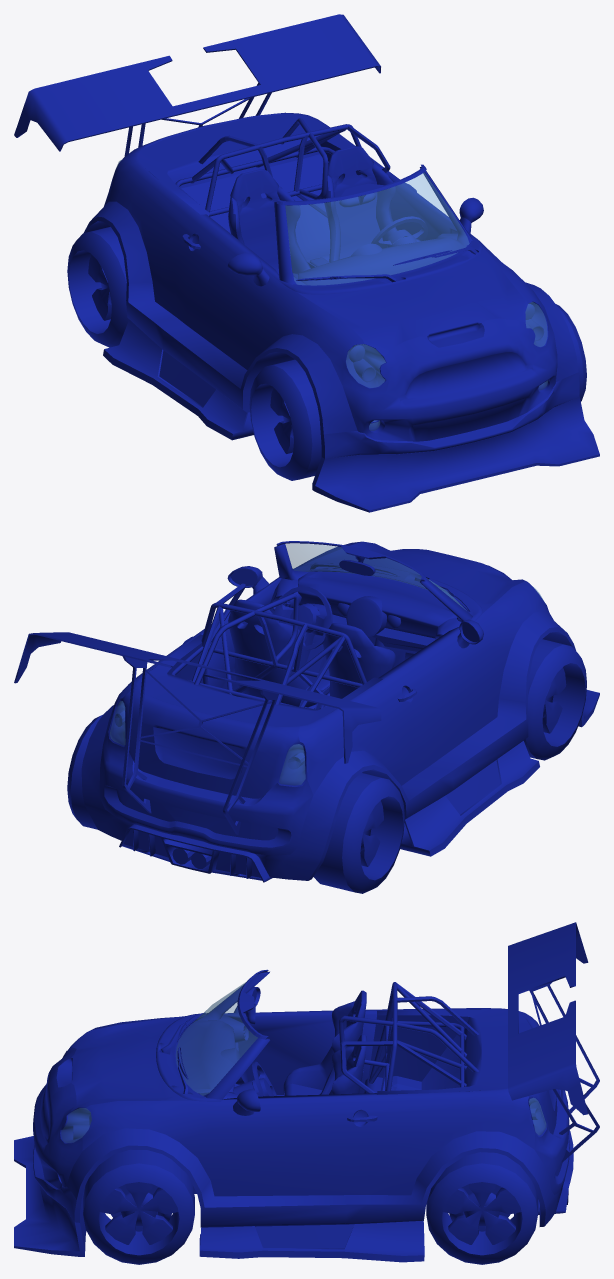
The model's file is SM_Roach_grade3.fbx.
3 renders of one model, top to bottom at view 1: azimuth 30°, elevation 25°; view 2: azimuth 150°, elevation 25°; view 3: azimuth 270°, elevation 25°, orthographic. The views are drawn at different scales.
Visible parts, largest first — view 1: SM_Roach_grade3_body, SM_Roach_grade3_glass, SM_Roach_grade3_wheel_FR, SM_Roach_grade3_wheel_BR, SM_Roach_grade3_wheel_FL; view 2: SM_Roach_grade3_body, SM_Roach_grade3_wheel_BR, SM_Roach_grade3_wheel_FR, SM_Roach_grade3_glass, SM_Roach_grade3_wheel_BL; view 3: SM_Roach_grade3_body, SM_Roach_grade3_wheel_FL, SM_Roach_grade3_wheel_BL, SM_Roach_grade3_glass.
Boxes of the visible parts, box(x1,y1,x2,y2) form: SM_Roach_grade3_body: box(14, 14, 599, 512); SM_Roach_grade3_glass: box(116, 160, 547, 430); SM_Roach_grade3_wheel_FR: box(249, 359, 321, 480); SM_Roach_grade3_wheel_BR: box(67, 226, 128, 347); SM_Roach_grade3_wheel_FL: box(556, 304, 586, 401); SM_Roach_grade3_body: box(14, 541, 599, 882); SM_Roach_grade3_wheel_BR: box(313, 773, 404, 893); SM_Roach_grade3_wheel_FR: box(523, 639, 586, 760); SM_Roach_grade3_glass: box(110, 544, 544, 785); SM_Roach_grade3_wheel_BL: box(67, 715, 102, 829); SM_Roach_grade3_body: box(14, 922, 599, 1262); SM_Roach_grade3_wheel_FL: box(83, 1149, 194, 1264); SM_Roach_grade3_wheel_BL: box(426, 1152, 538, 1264); SM_Roach_grade3_glass: box(61, 975, 546, 1142).
Bounding box in the file's own units: 248 × 159 × 402.
